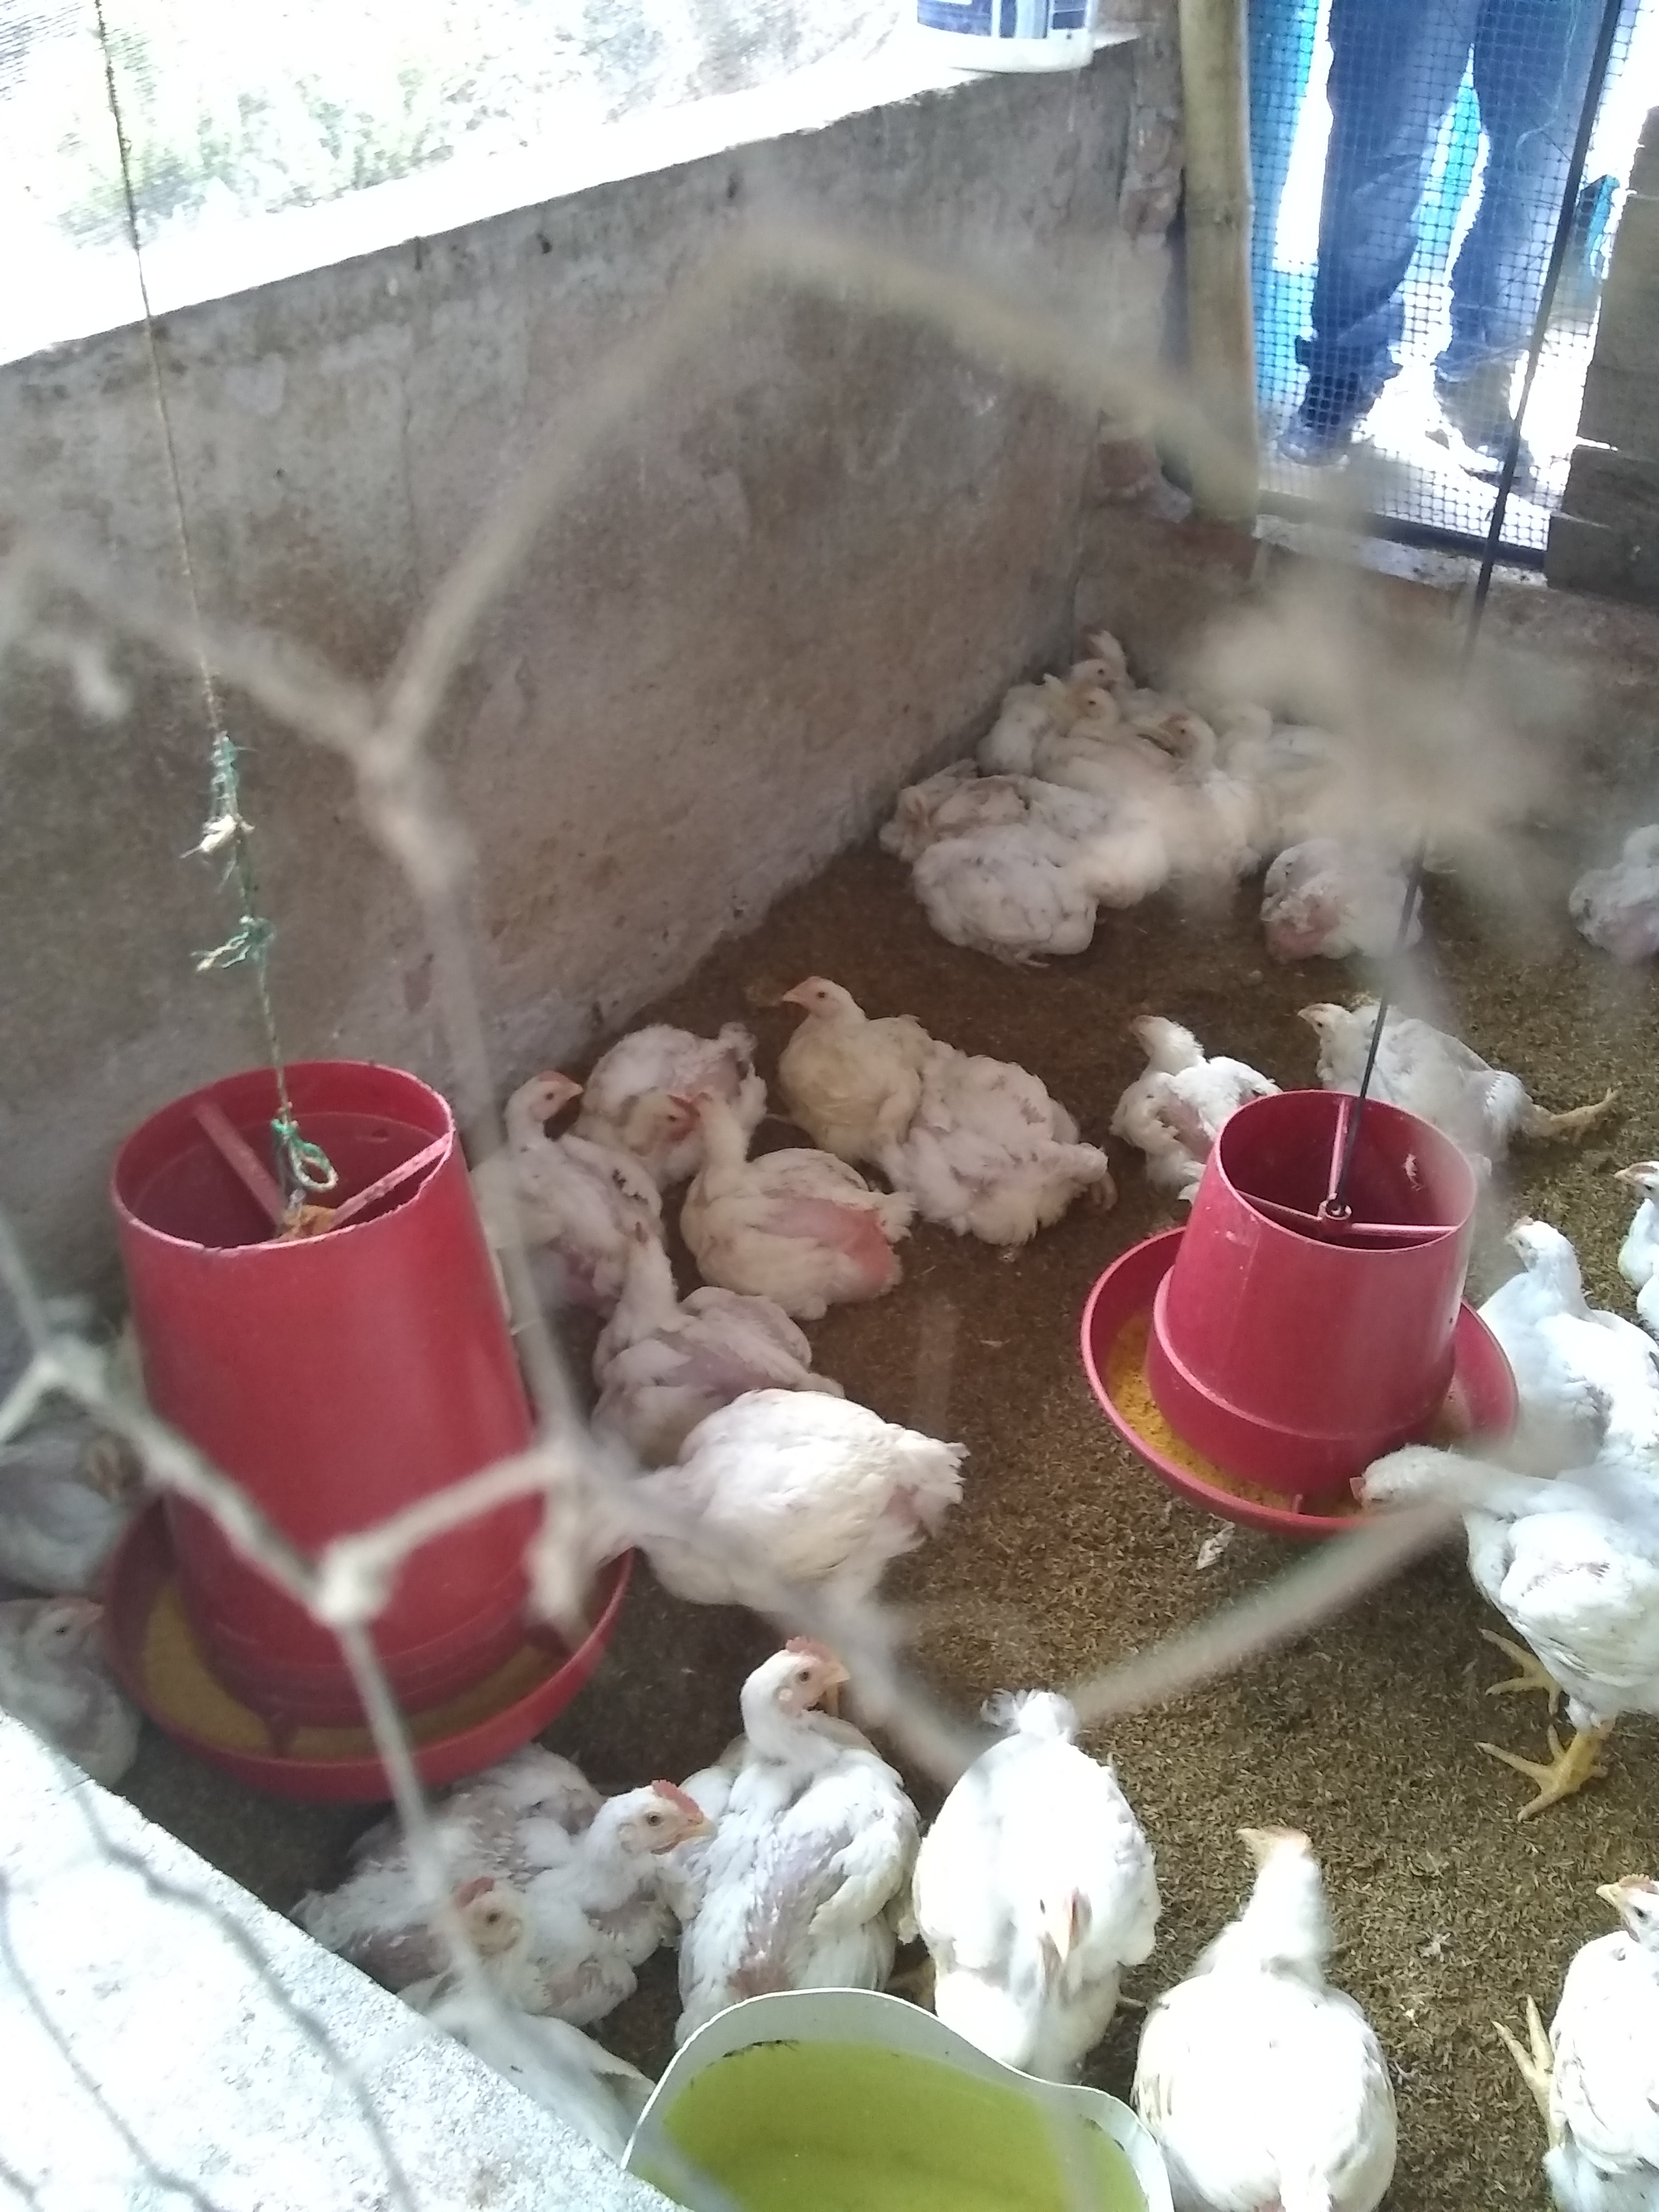Pollos: (291, 1712, 728, 2041), (1349, 1411, 1659, 1804), (1145, 1766, 1387, 2212), (908, 1639, 1150, 2052), (549, 1392, 971, 1627), (669, 1634, 897, 1994), (1286, 960, 1629, 1174), (875, 1043, 1138, 1268), (1528, 1824, 1659, 2193), (690, 1087, 904, 1310), (1425, 1160, 1626, 1397), (0, 1568, 179, 1799), (593, 1216, 805, 1406), (0, 1378, 218, 1562), (436, 1878, 593, 2090), (1110, 1005, 1277, 1193), (774, 954, 915, 1144), (929, 840, 1126, 958), (854, 742, 1000, 892), (1272, 838, 1424, 963), (490, 1069, 584, 1268), (573, 1012, 772, 1094), (1570, 803, 1659, 960), (1162, 709, 1241, 840), (1607, 1130, 1659, 1325), (622, 1047, 704, 1163), (1056, 653, 1134, 697), (1229, 695, 1276, 738), (1066, 688, 1129, 719), (1080, 613, 1119, 655), (1290, 718, 1305, 759)
